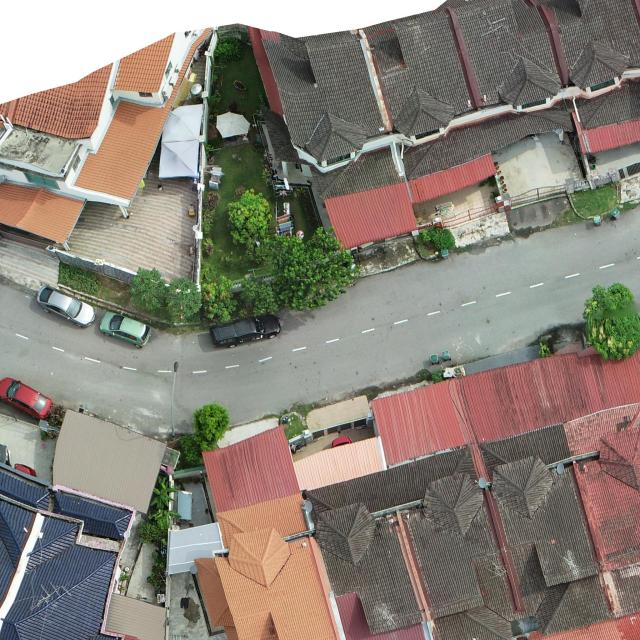Tree: (240, 226, 362, 320), (582, 281, 640, 362), (226, 188, 272, 245), (202, 275, 239, 323), (128, 266, 166, 311), (192, 402, 230, 446), (166, 276, 203, 318), (149, 496, 181, 530), (150, 476, 178, 512), (137, 518, 167, 546), (423, 227, 455, 250)
